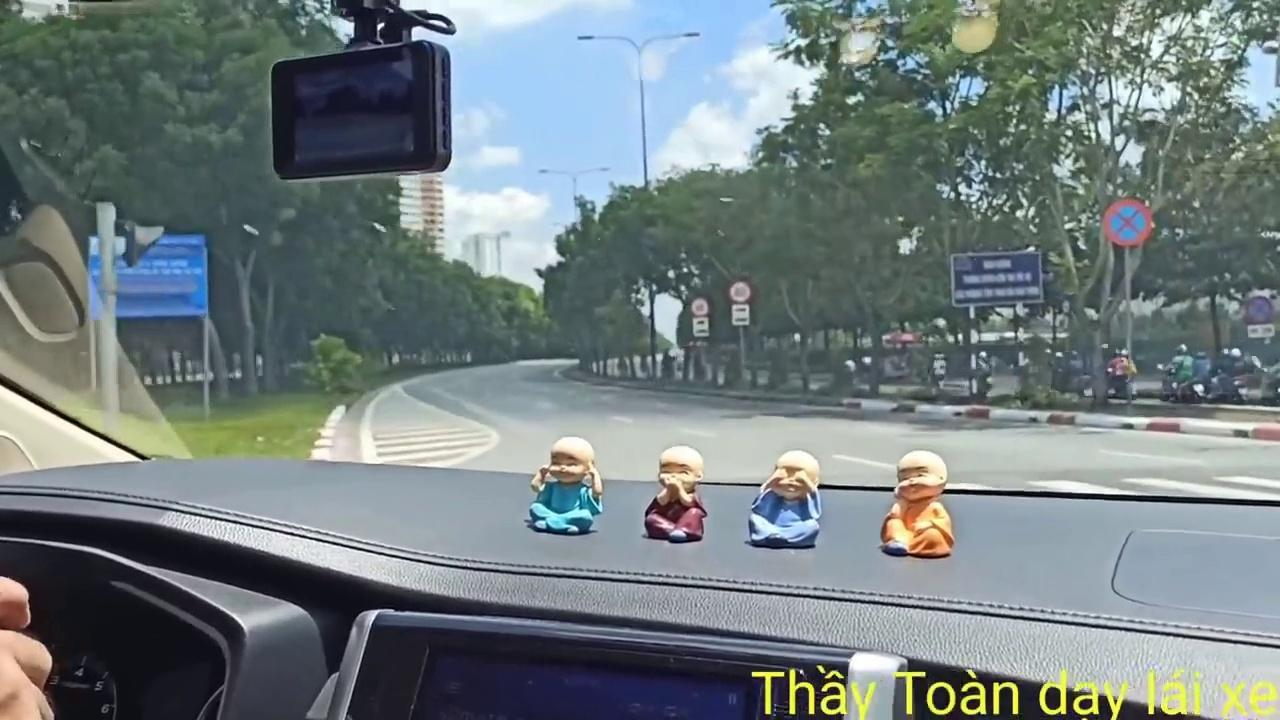Biển phụ: (730, 302, 753, 326), (691, 317, 710, 338)
Cấm dừng - Cấm đỗ: (1101, 194, 1152, 248), (1244, 294, 1274, 326)
Khác: (86, 233, 213, 318)
